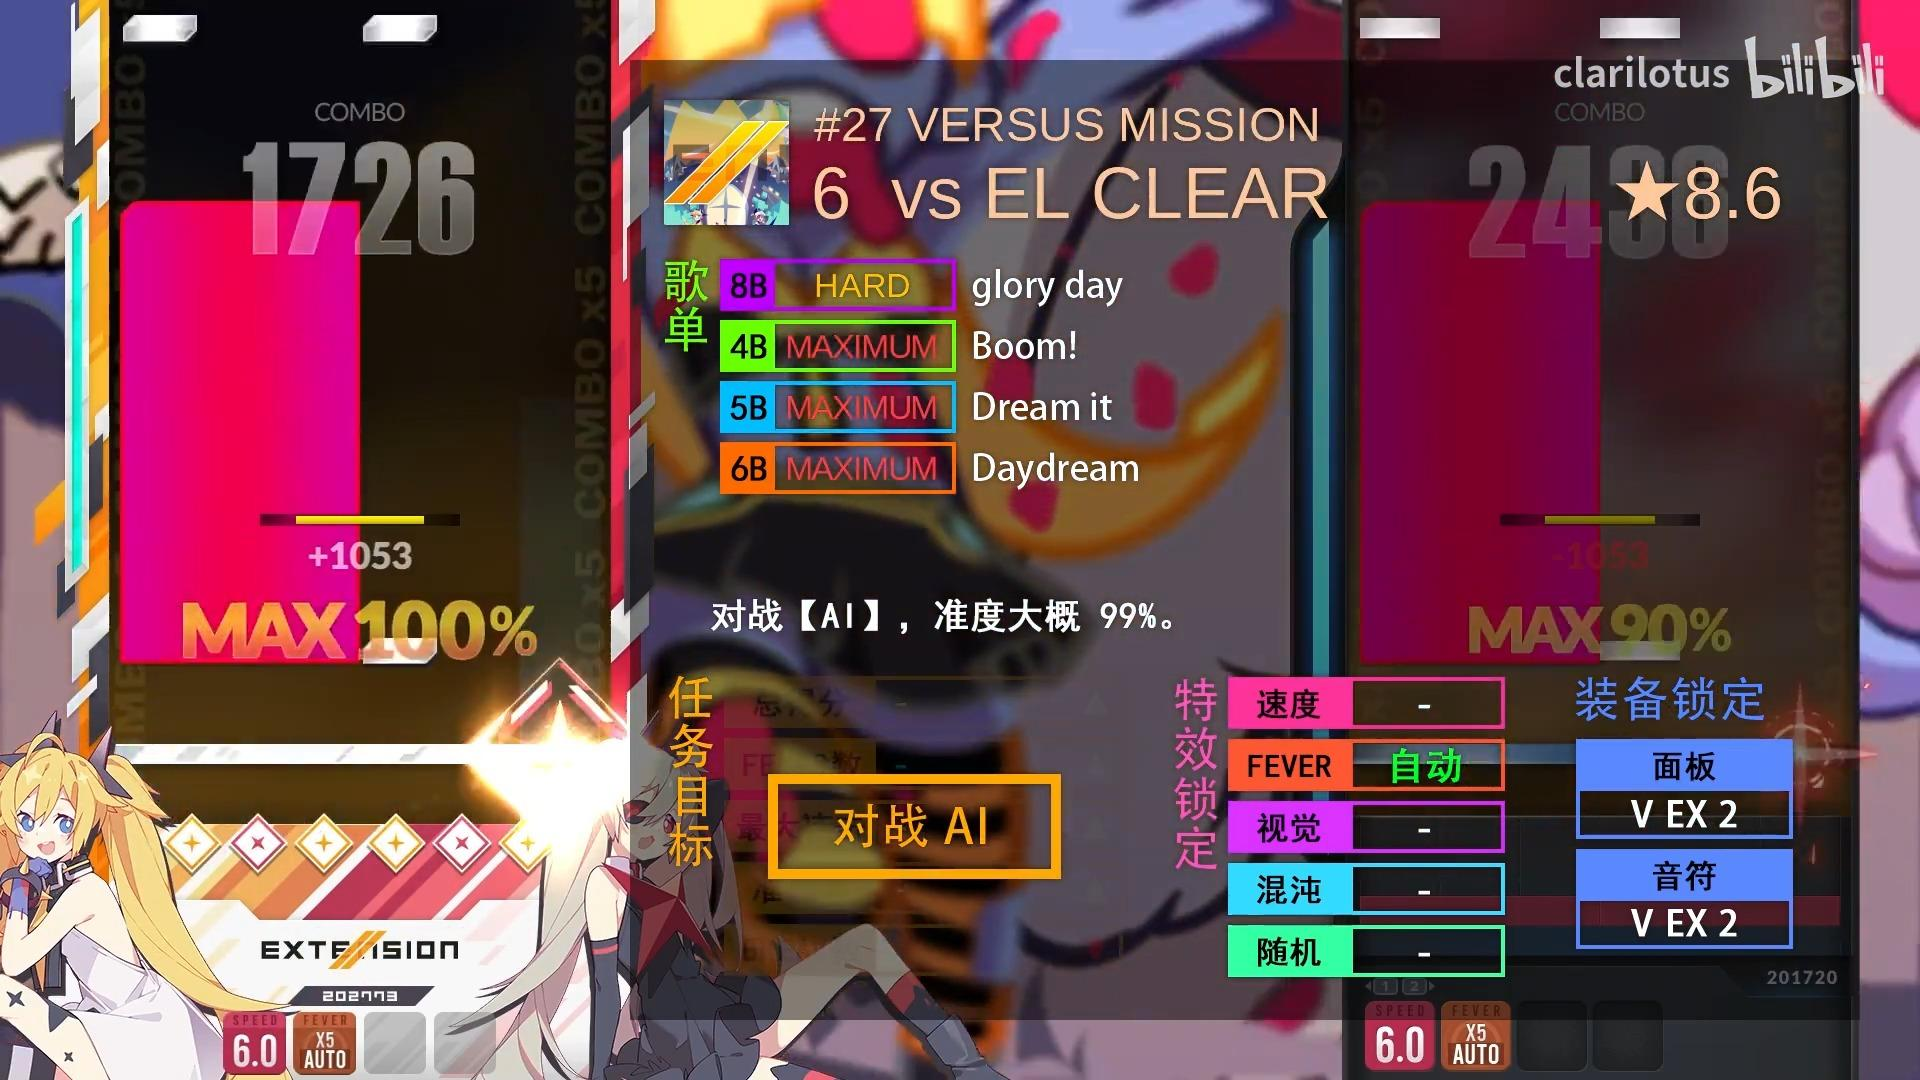note: (361, 15, 438, 42), (123, 13, 198, 41), (361, 637, 436, 665)
xend: (120, 200, 360, 224)
xstart: (120, 636, 360, 663)
